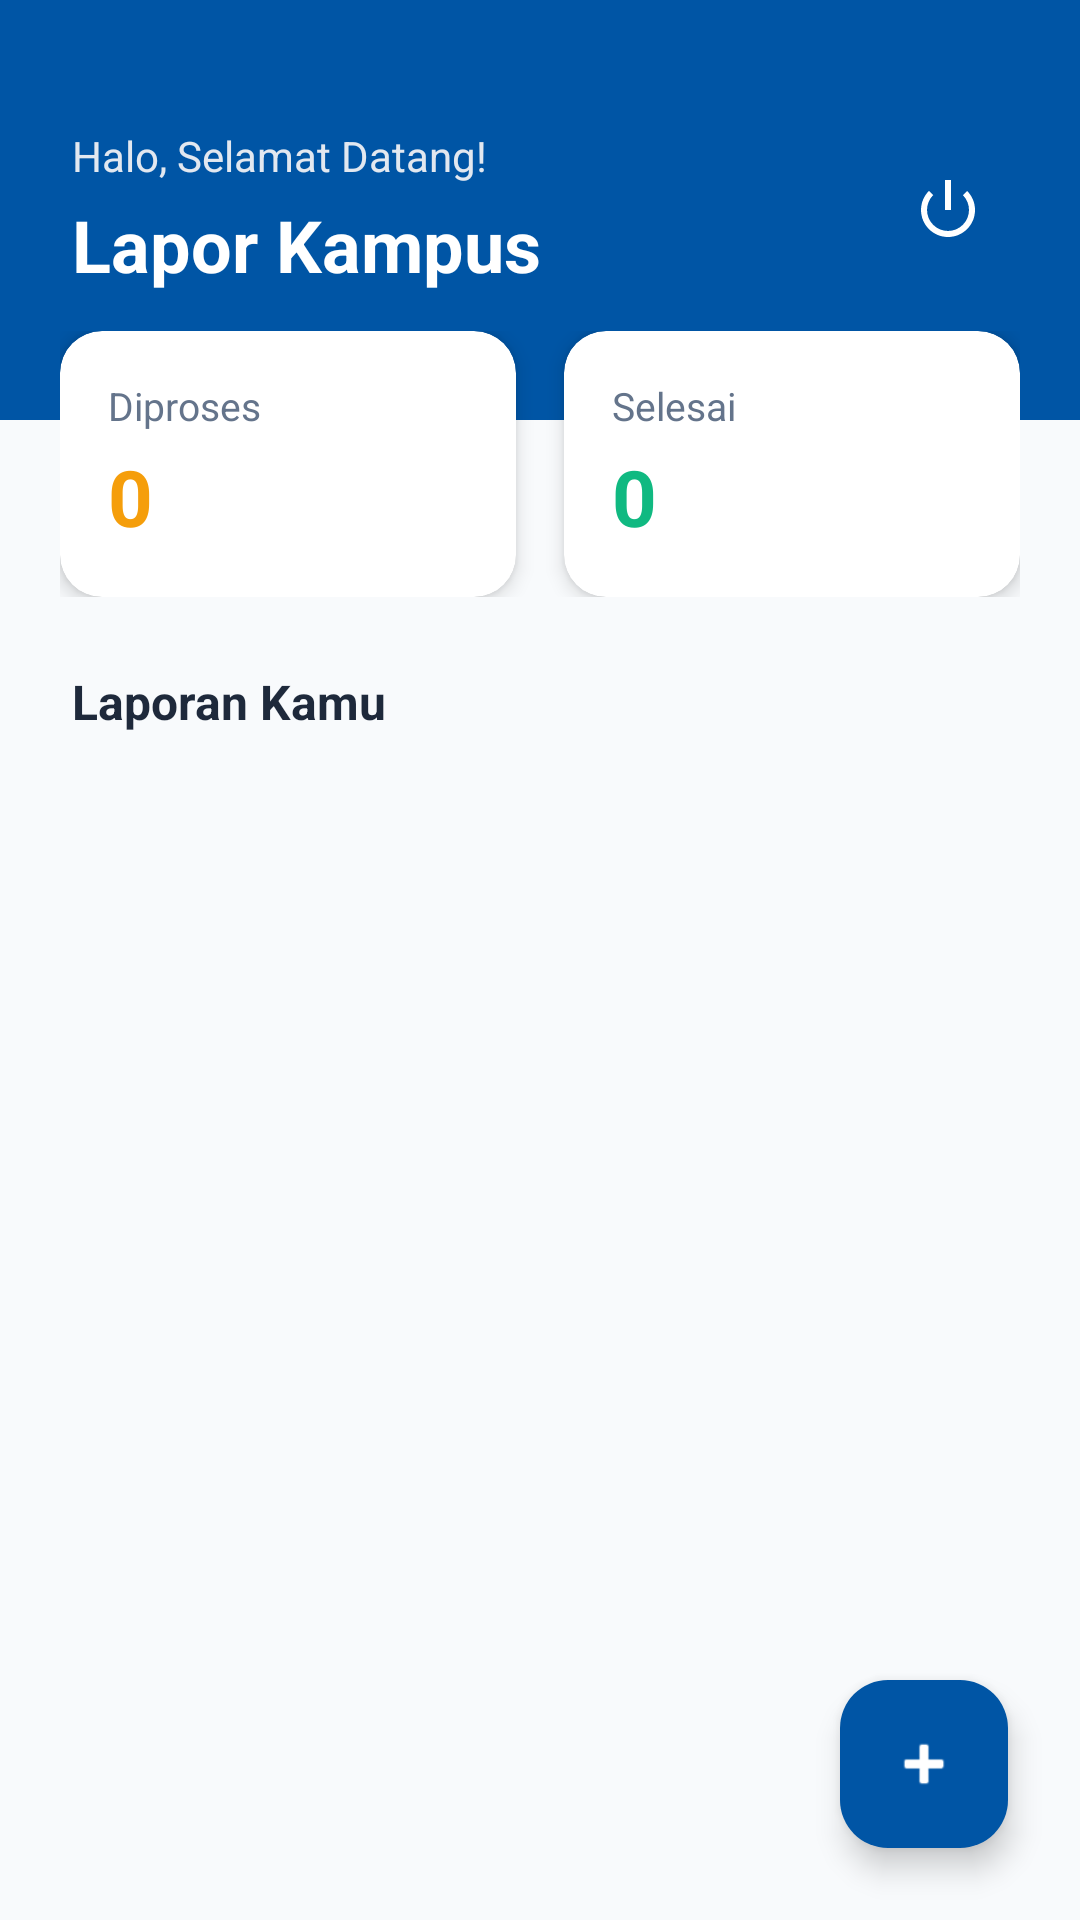

Icons on this 1080*1920 Android screen, each with its box as (x1, y1, x2, y2):
Tambah Laporan: (840, 1680, 1008, 1848)
